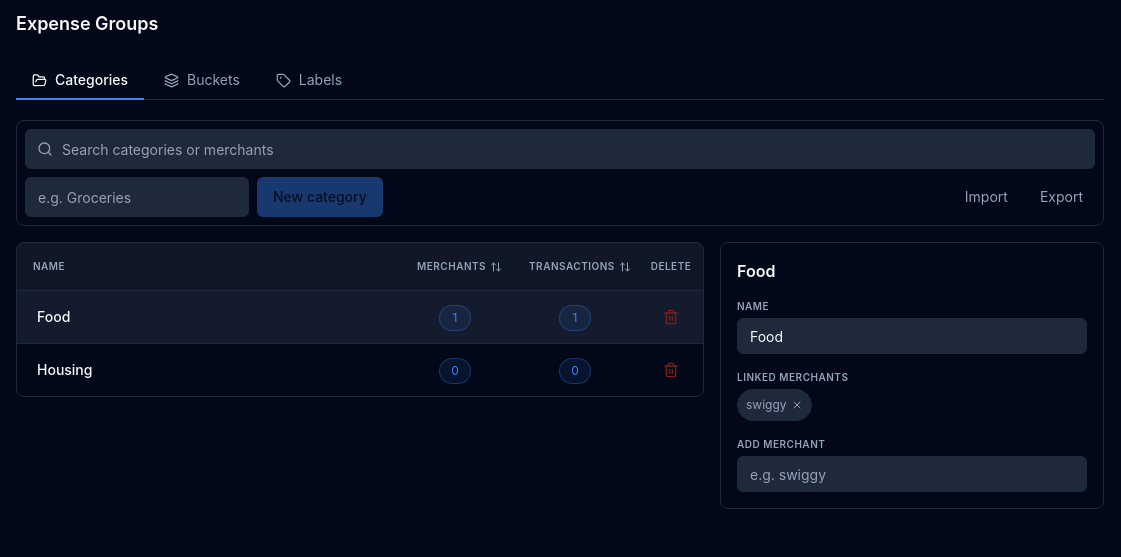
Test: ExpenseGroupsPage › suggests merchants from transaction facets even when they are not already linked
Type "corner" into the field named "Add merchant" at (912, 474), box [737,456,1087,492]
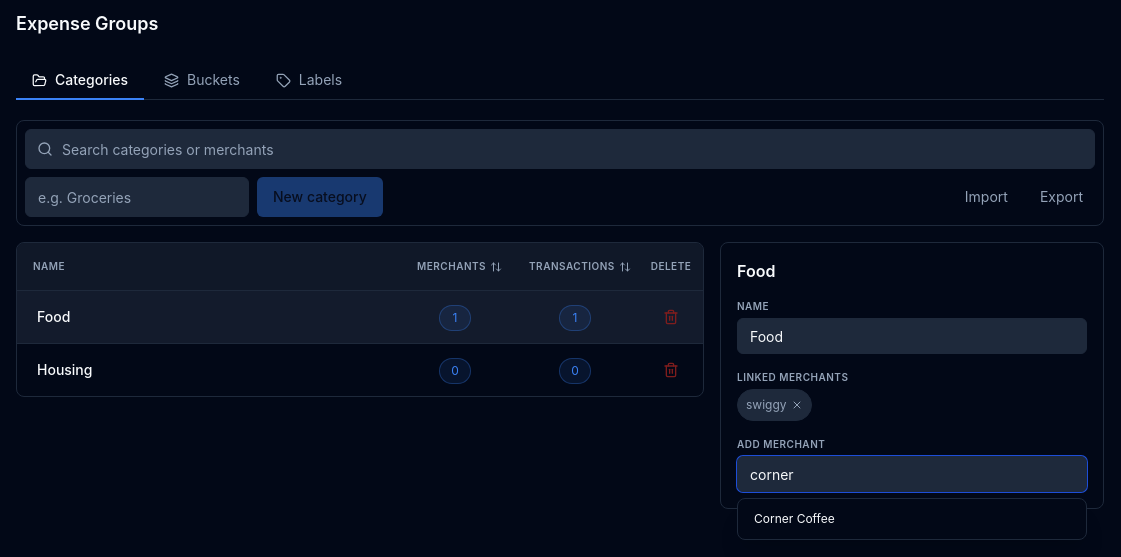
Check: the button "Corner Coffee" is shown, box [742,503,1082,535]
